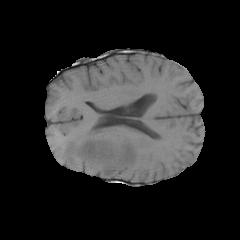glioma: (61, 127, 139, 177)
